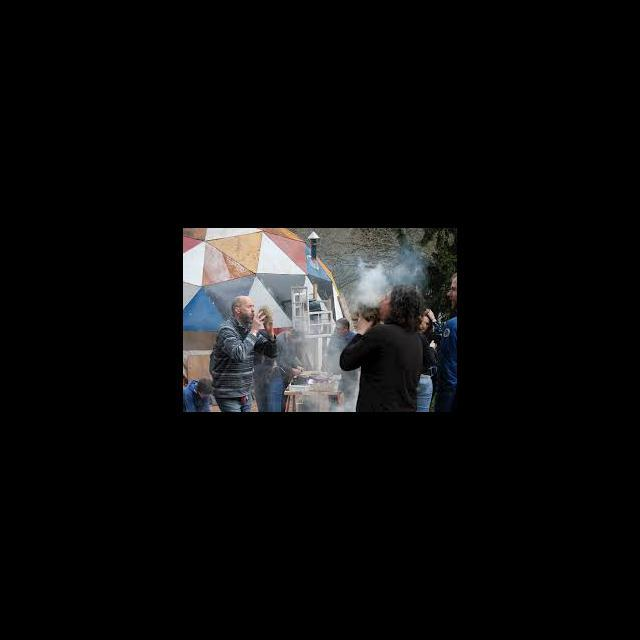Smoke: (348, 248, 419, 306), (306, 372, 361, 411)
